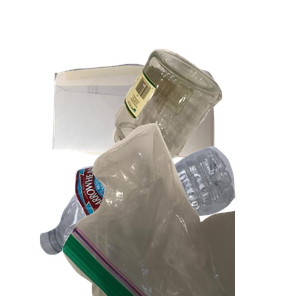glass: (110, 46, 300, 205)
paper: (50, 61, 257, 211)
plastic: (37, 144, 265, 300)
trash: (60, 120, 300, 300)
